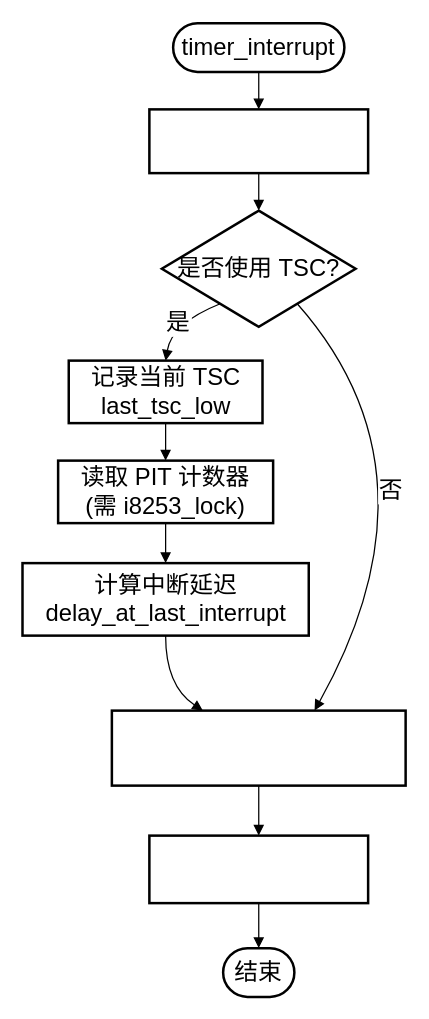
This 429x1019 diagram has some shape labels left out. Here are the shapes that lost their labels. From the top down, the box of each, then its label:
(148, 108, 369, 174): 加锁 xtime_lock 保护时间数据
(110, 709, 406, 786): 调用 do_timer_interrupt 执行核心业务
(148, 834, 369, 904): 解锁 xtime_lock
